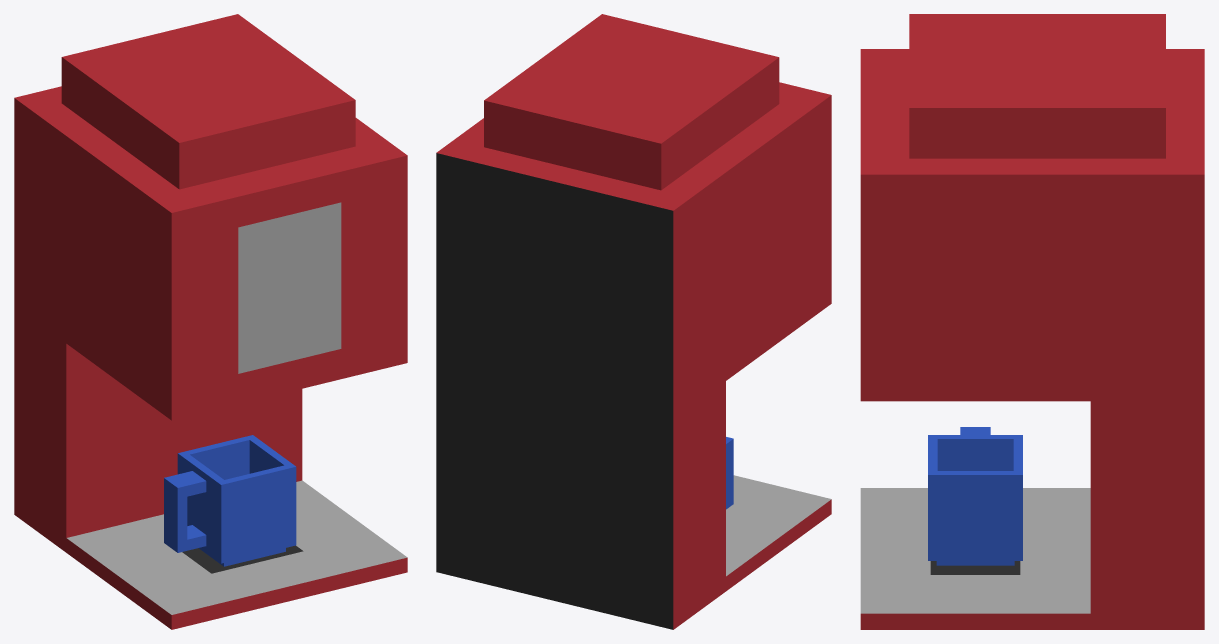
Rendered from coffeeMachine.fbx.
The picture shows the model from 3 angles, left to right: view 1: azimuth 30°, elevation 25°; view 2: azimuth 150°, elevation 25°; view 3: azimuth 270°, elevation 25°; orthographic projection. The views are drawn at different scales.
Visible parts, largest first — view 1: coffeeMachine, cup; view 2: coffeeMachine, cup; view 3: coffeeMachine, cup.
Boxes of the visible parts, x1=… form: coffeeMachine: x1=14, y1=14, x2=407, y2=629; cup: x1=164, y1=435, x2=296, y2=566; coffeeMachine: x1=436, y1=14, x2=831, y2=629; cup: x1=726, y1=437, x2=733, y2=509; coffeeMachine: x1=860, y1=14, x2=1204, y2=629; cup: x1=928, y1=427, x2=1022, y2=565.
Bounding box in the file's own units: 72.96 × 137 × 84.37.
